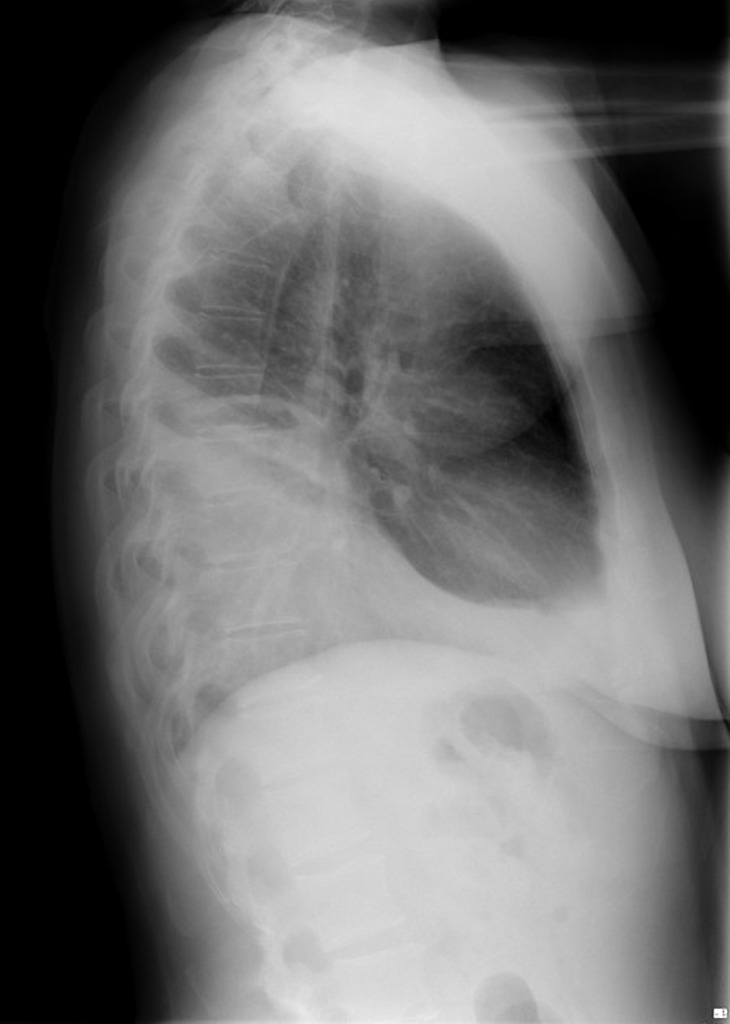cancer: (189, 191, 566, 698)
